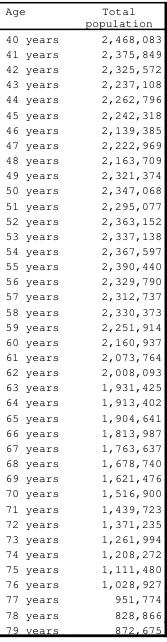table: (4, 3, 161, 636)
table column: (71, 3, 161, 636), (4, 3, 71, 636)
table column header: (4, 3, 161, 30)
table row: (4, 3, 161, 30), (4, 45, 161, 61), (4, 136, 161, 152), (4, 242, 161, 258), (4, 333, 161, 349), (4, 439, 161, 455), (4, 545, 161, 561), (4, 30, 161, 45), (4, 61, 161, 76), (4, 76, 161, 91), (4, 91, 161, 106), (4, 106, 161, 121), (4, 121, 161, 136), (4, 152, 161, 167), (4, 167, 161, 182), (4, 182, 161, 197), (4, 197, 161, 212), (4, 212, 161, 227), (4, 227, 161, 242), (4, 258, 161, 273), (4, 273, 161, 288), (4, 288, 161, 303), (4, 303, 161, 318), (4, 318, 161, 333), (4, 349, 161, 364), (4, 364, 161, 379), (4, 379, 161, 394), (4, 394, 161, 409), (4, 409, 161, 424), (4, 424, 161, 439), (4, 455, 161, 470), (4, 470, 161, 485), (4, 485, 161, 500), (4, 500, 161, 515), (4, 515, 161, 530), (4, 530, 161, 545), (4, 561, 161, 576), (4, 576, 161, 591), (4, 591, 161, 606), (4, 606, 161, 621), (4, 621, 161, 636)
